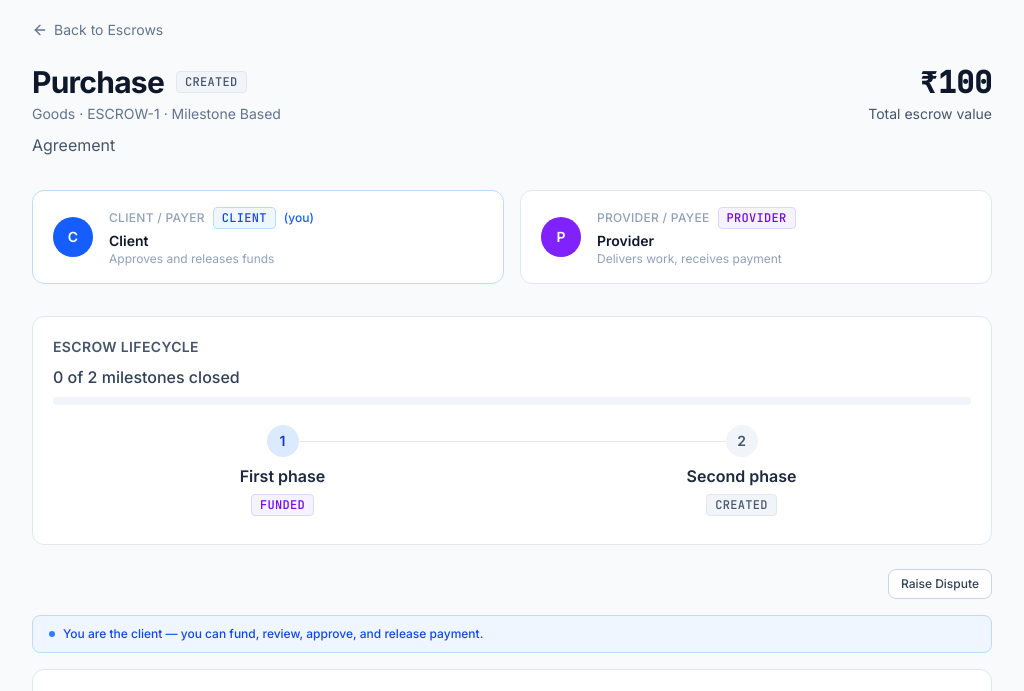
Scenario: escrow dispute creation form › defaults a milestone-based dispute to a specific milestone instead of the whole escrow
Click the button "Raise Dispute" at (940, 584), box [888,569,992,599]
(page scrolled)
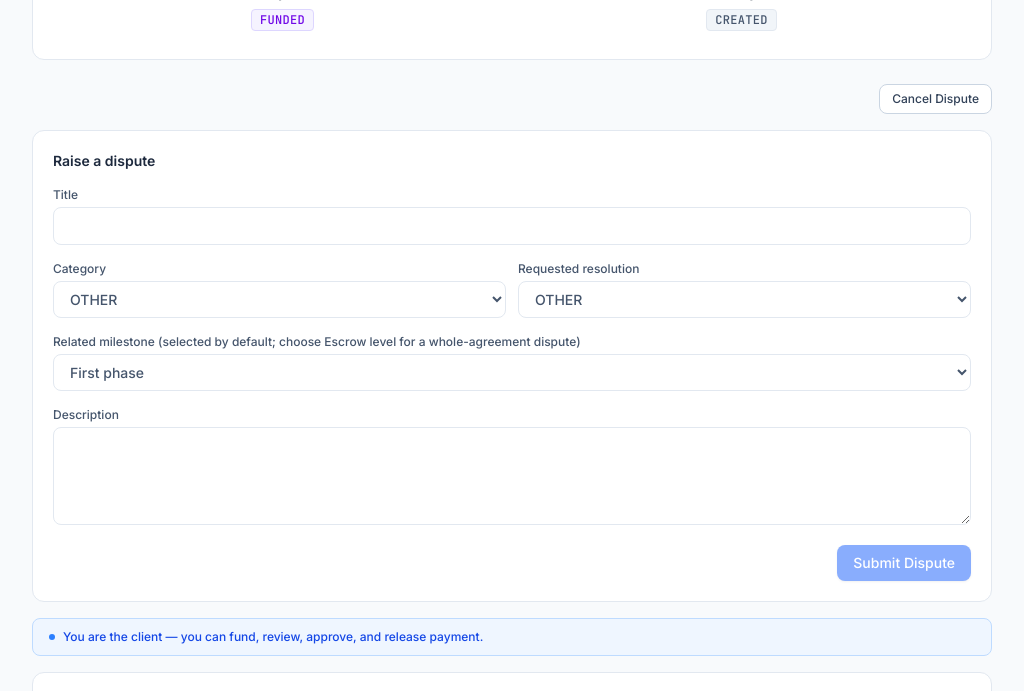
Expected: the dropdown labelled "Related milestone" shows "First phase", [53,354,971,391]
